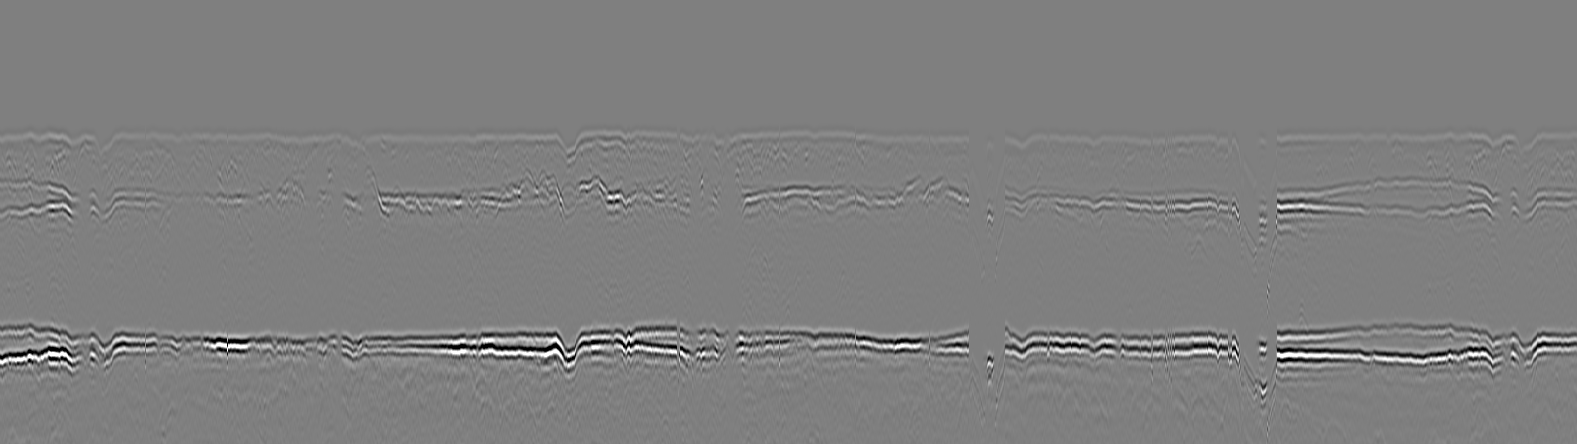fault: (1230, 192, 1286, 275), (1480, 103, 1546, 173), (1222, 114, 1286, 182), (690, 177, 751, 248), (963, 191, 1012, 277), (331, 177, 392, 239), (1491, 186, 1544, 250), (962, 121, 1016, 179), (68, 181, 120, 237), (546, 116, 591, 172), (548, 179, 591, 235), (337, 123, 375, 163), (84, 125, 122, 166)
